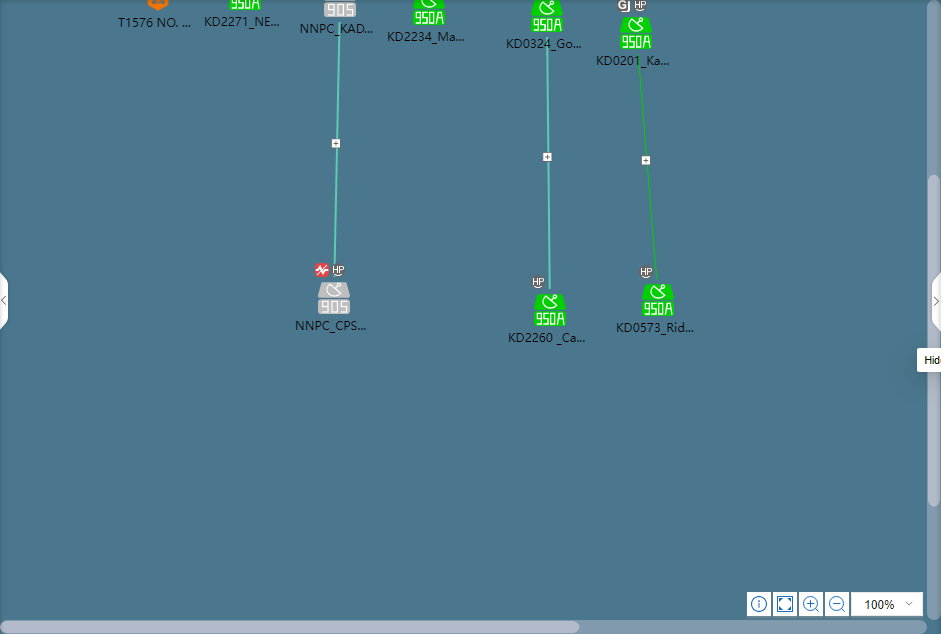Link_Blue: (333, 22, 341, 265), (545, 37, 552, 290)
Link_Green: (635, 54, 659, 280)
RTN_Gray: (318, 283, 349, 314), (324, 0, 355, 17)
RTN_Green: (533, 294, 565, 326), (642, 284, 673, 316), (531, 0, 562, 31), (620, 17, 651, 48), (413, 0, 444, 24), (229, 0, 260, 9)
